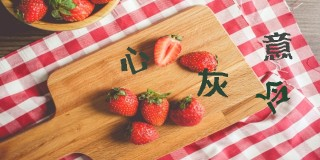冷: (257, 80, 290, 115)
心: (121, 45, 150, 75)
意: (262, 30, 295, 62)
灰: (197, 65, 230, 99)
